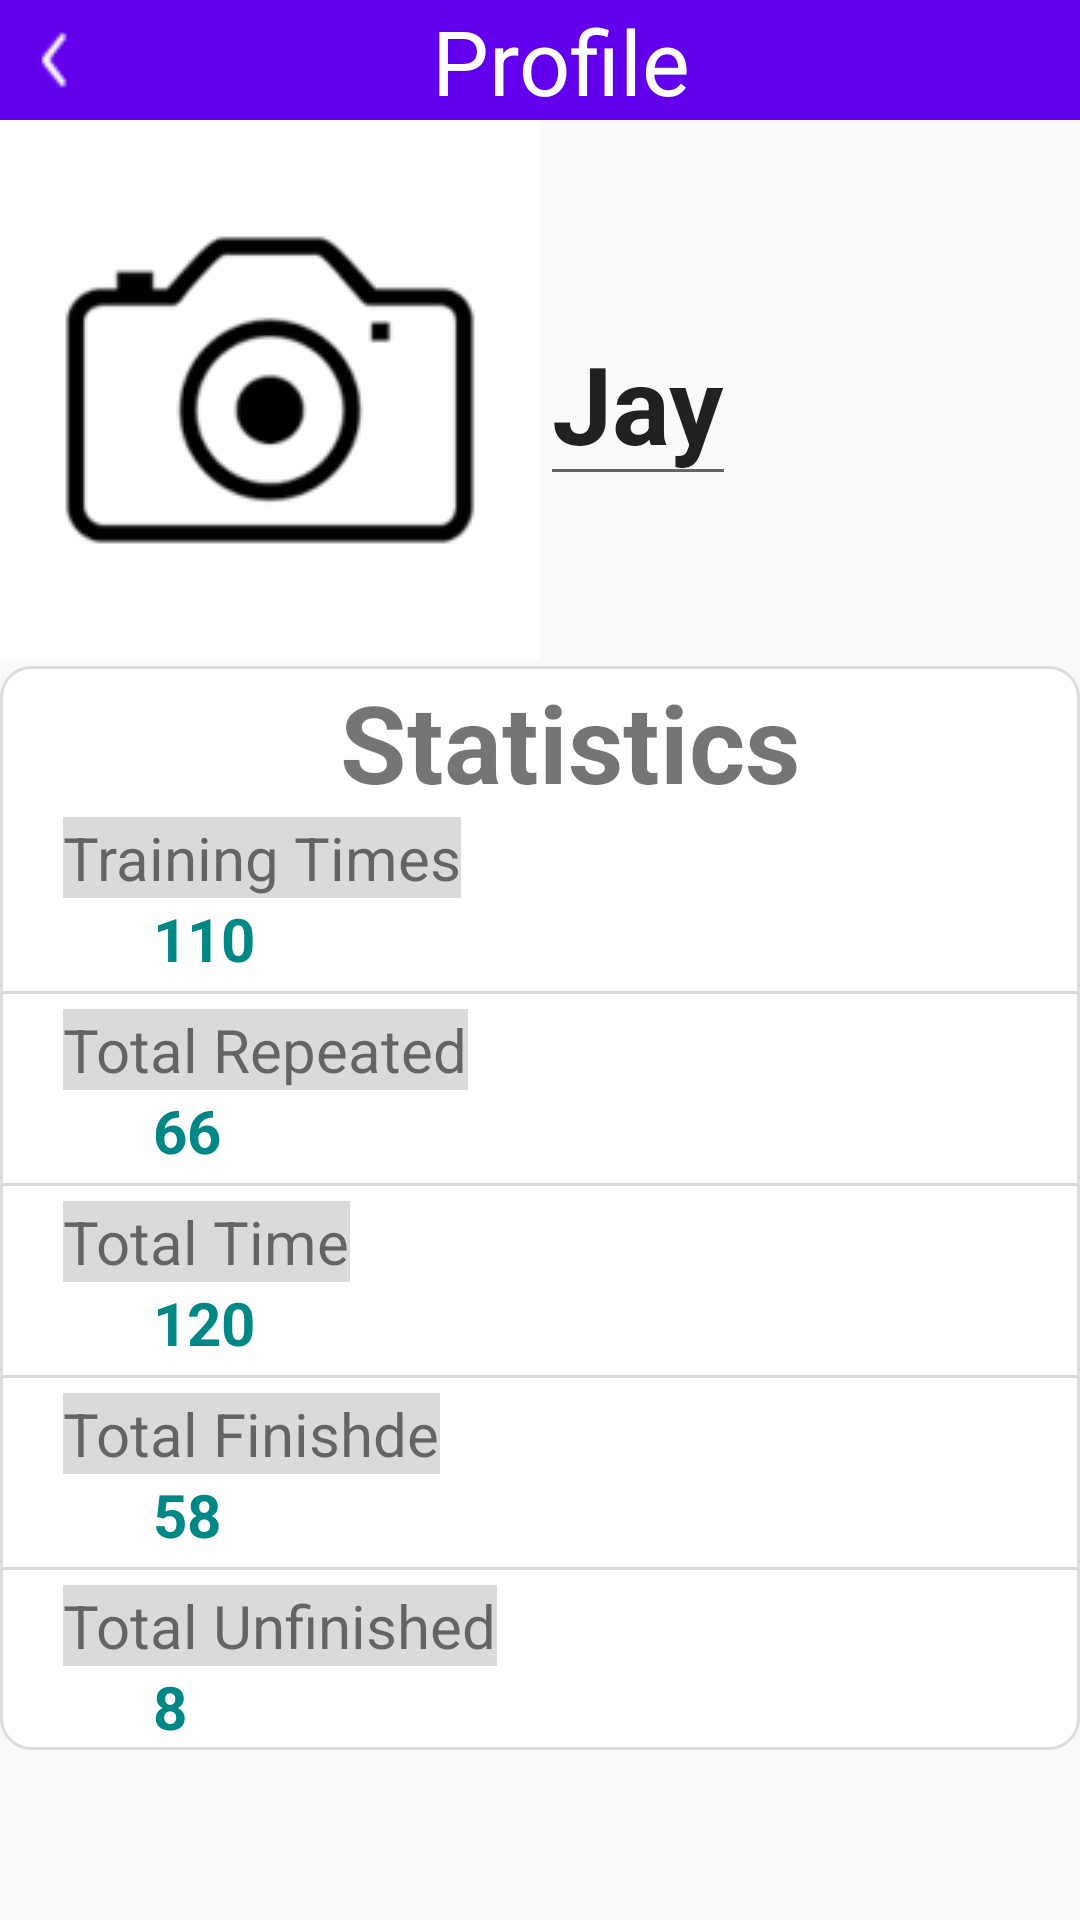

Icon bounding boxes for this 1080 × 1920 phone screenshot, format [x1, y1, x2, y2]:
left: [41, 32, 67, 88]
